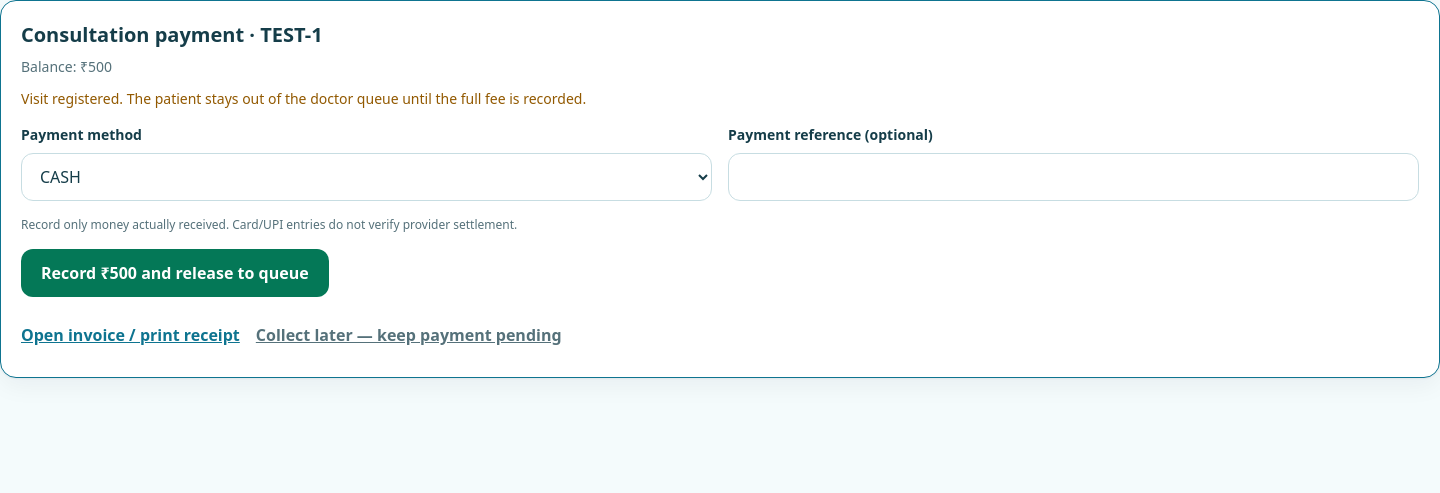
inline consultation payment › records only on explicit confirmation, reuses its key after a failed response, then confirms paid
Click the button "Record ₹500 and release to queue".
click(175, 273)  # box 21,249 -> 329,297
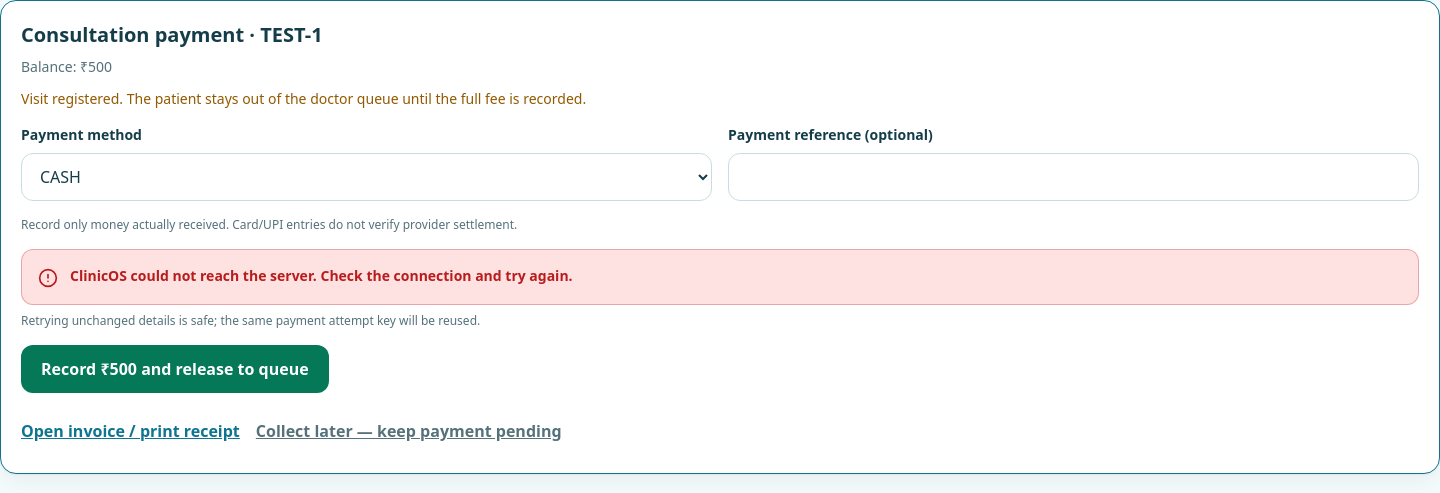
expect the message "ClinicOS could not reach the server. Check the connection and try again." is shown: met, box 21,249 -> 1419,305
Click the button "Record ₹500 and release to queue".
click(175, 369)  # box 21,345 -> 329,393
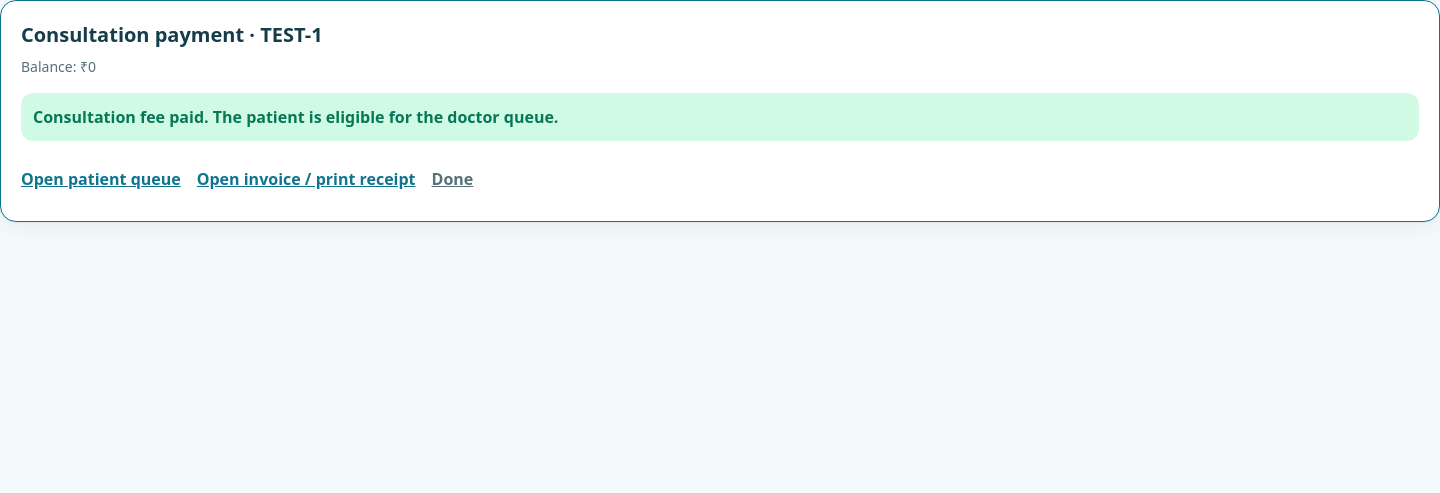
expect the message "Consultation fee paid. The patient is eligible for the doctor queue." is shown: met, box 21,93 -> 1419,141
expect the button "Record ₹500" is gone: met
